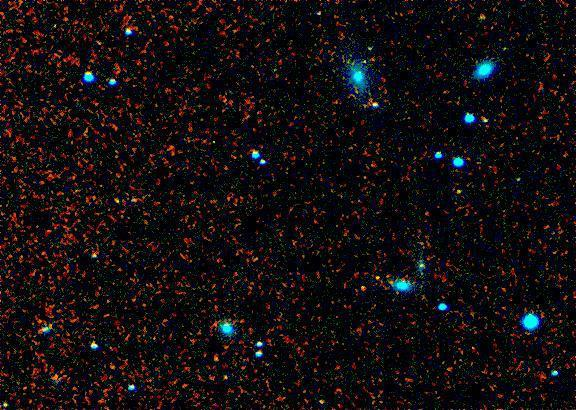star: (212, 360, 242, 390)
